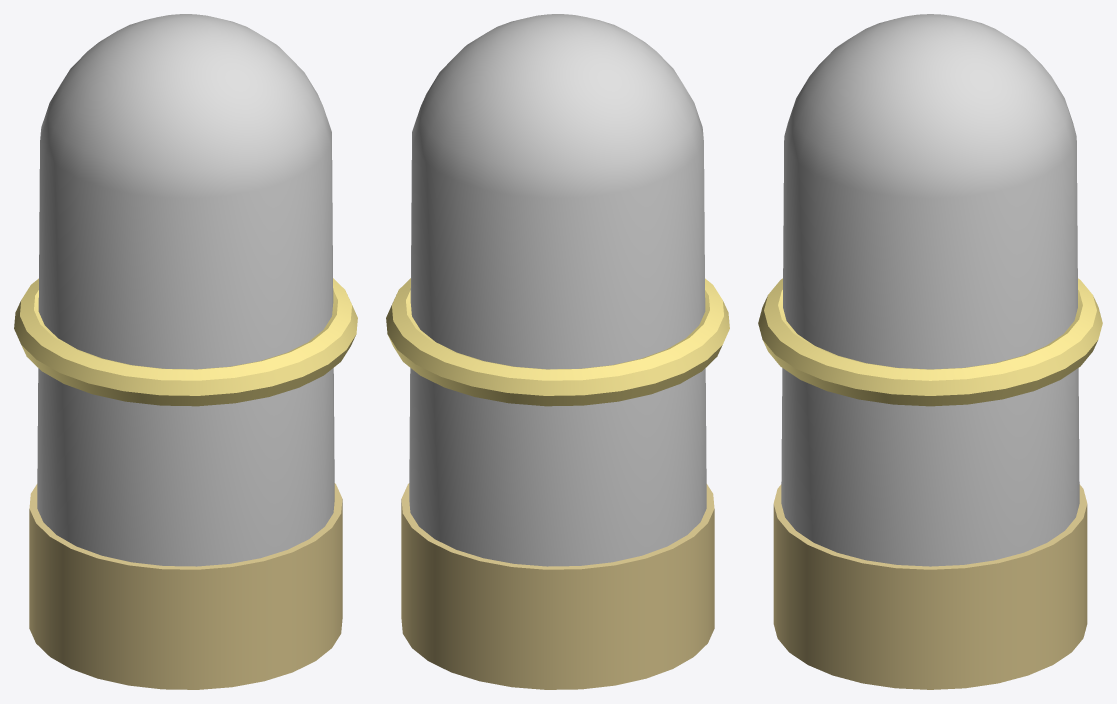
Rendered from Shell.fbx.
3 views of the same model, side by side, from view 1: azimuth 30°, elevation 25°; view 2: azimuth 150°, elevation 25°; view 3: azimuth 270°, elevation 25° (orthographic).
Visible parts, largest first — view 1: Shell_Body, Shell_Cap, Shell_Mark; view 2: Shell_Body, Shell_Cap, Shell_Mark; view 3: Shell_Body, Shell_Cap, Shell_Mark.
Boxes of the visible parts, left/top/right/bottom form: Shell_Body: left=37, top=14, right=334, bottom=566; Shell_Cap: left=29, top=483, right=342, bottom=689; Shell_Mark: left=14, top=278, right=357, bottom=406; Shell_Body: left=409, top=14, right=706, bottom=566; Shell_Cap: left=401, top=483, right=714, bottom=689; Shell_Mark: left=386, top=278, right=729, bottom=406; Shell_Body: left=781, top=14, right=1079, bottom=566; Shell_Cap: left=773, top=484, right=1087, bottom=689; Shell_Mark: left=758, top=278, right=1102, bottom=406.
Size of the model in its own units: 0.0312 by 0.0595 by 0.0312.
